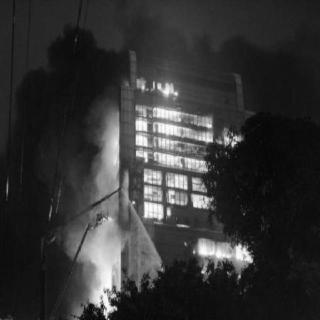Fire: (132, 95, 218, 223), (92, 87, 120, 215), (135, 74, 177, 96)
